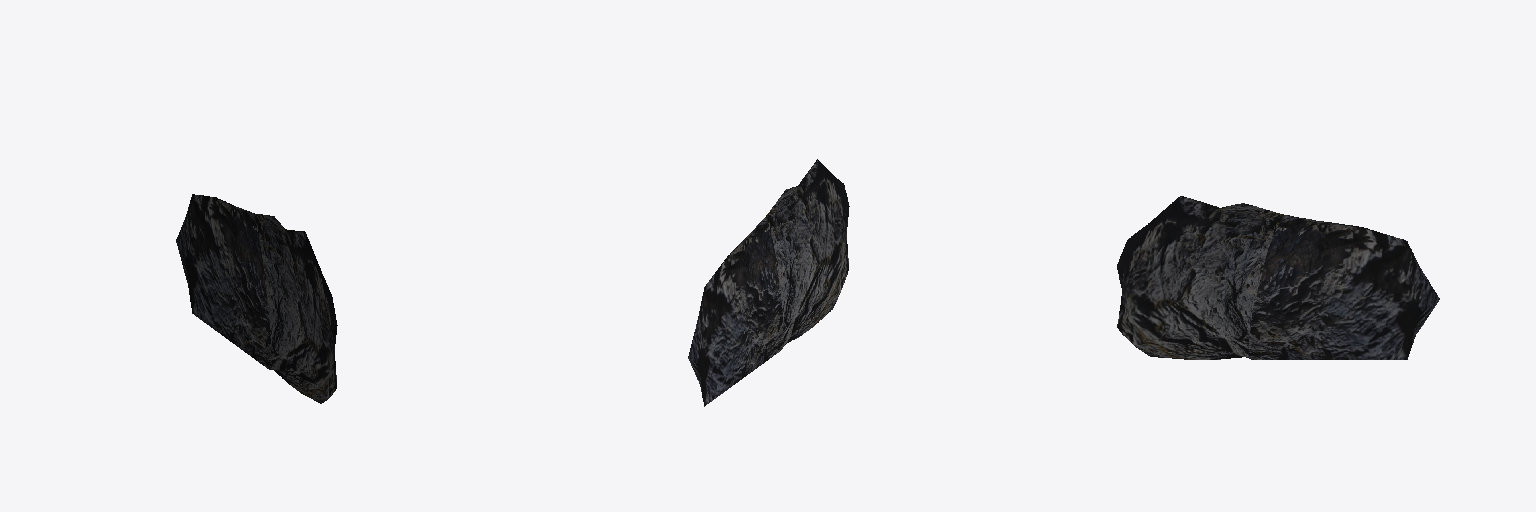
3 views of the same model, side by side, from view 1: azimuth 30°, elevation 25°; view 2: azimuth 150°, elevation 25°; view 3: azimuth 270°, elevation 25° (orthographic).
Parts seen in each view (by area): view 1: Plane_Plane.003; view 2: Plane_Plane.003; view 3: Plane_Plane.003.
Boxes of the visible parts, box(x1,y1,x2,y2) form: Plane_Plane.003: box(176, 194, 337, 403); Plane_Plane.003: box(688, 159, 849, 406); Plane_Plane.003: box(1117, 196, 1439, 359).
Bounding box in the file's own units: 0 × 2.08 × 3.72.
Materials: 1 (1 with a texture image).